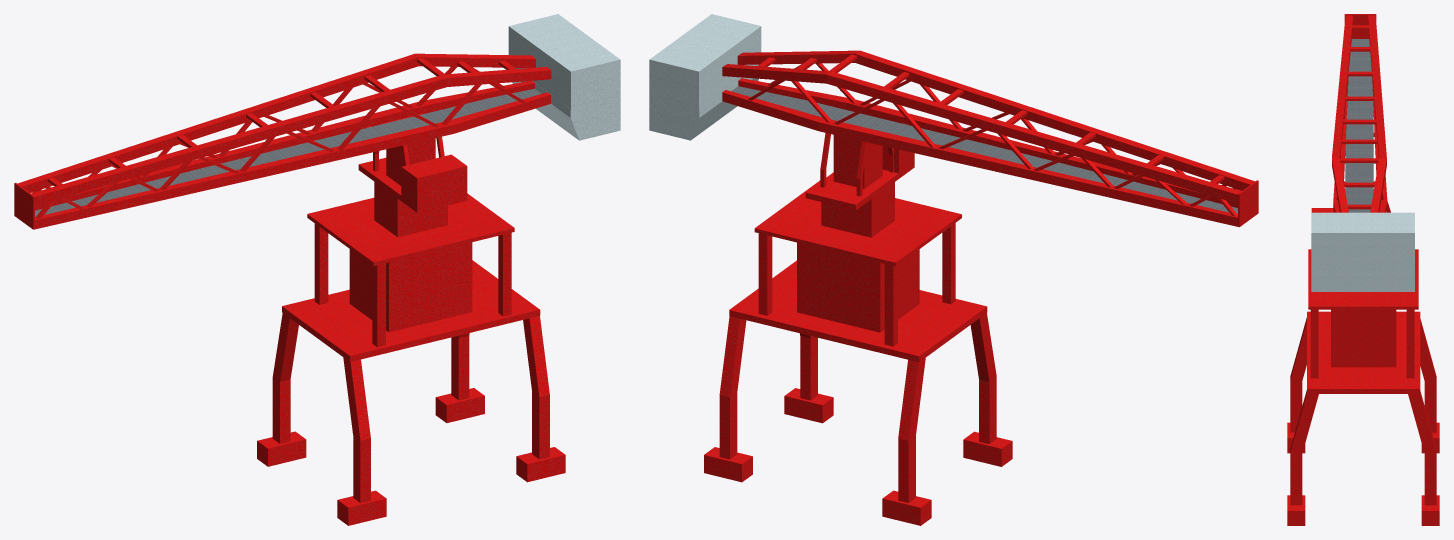
Rendered from BLOCKYGON_CRANE .fbx.
3 views of the same model, side by side, from view 1: azimuth 30°, elevation 25°; view 2: azimuth 150°, elevation 25°; view 3: azimuth 270°, elevation 25° (orthographic). The views are drawn at different scales.
Parts seen in each view (by area): view 1: CRANE_BODY, CRANE_TOP; view 2: CRANE_BODY, CRANE_TOP; view 3: CRANE_BODY, CRANE_TOP.
Boxes of the visible parts, box(x1,y1,x2,y2) form: CRANE_BODY: box(257, 113, 565, 525); CRANE_TOP: box(14, 14, 620, 229); CRANE_BODY: box(704, 133, 1012, 525); CRANE_TOP: box(649, 14, 1258, 227); CRANE_BODY: box(1287, 189, 1439, 525); CRANE_TOP: box(1311, 14, 1414, 291).
Bounding box in the file's own units: 3194 × 2140 × 893.
